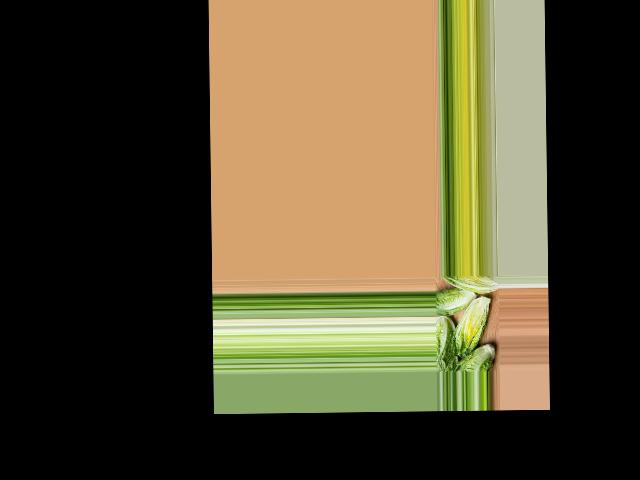lettuce: (442, 274, 497, 295)
